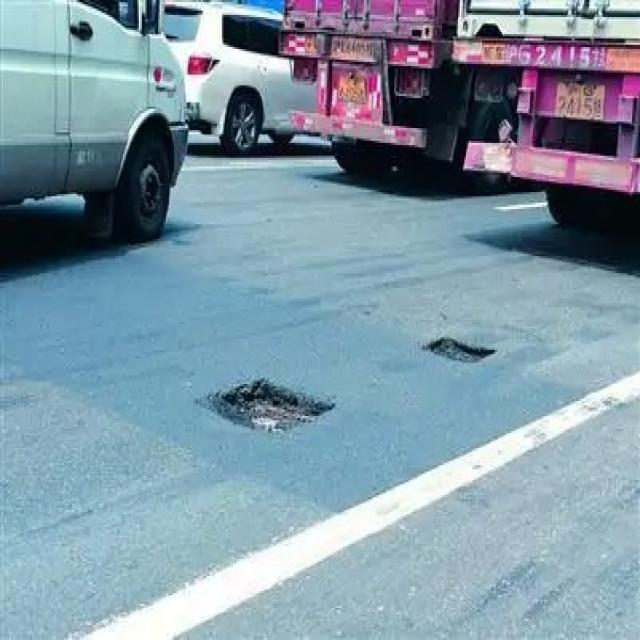Pothole: (206, 378, 333, 431), (424, 335, 496, 365)
